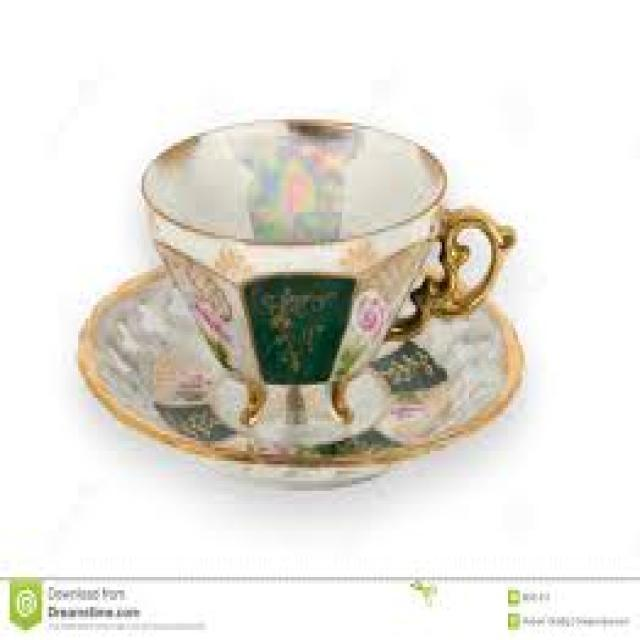taza: (137, 121, 517, 426)
